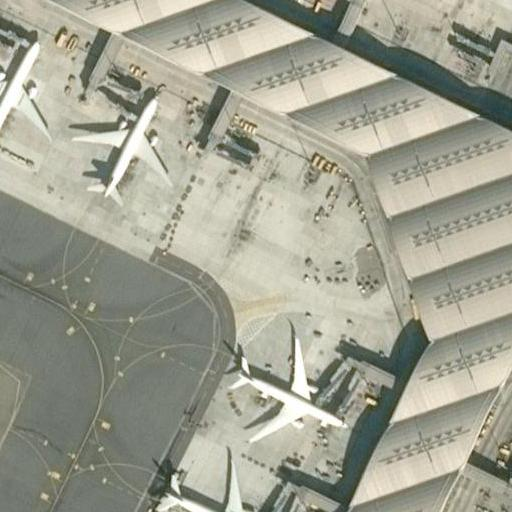Aircraft: (218, 327, 350, 447), (65, 86, 171, 210), (149, 447, 296, 512), (0, 26, 53, 153)
